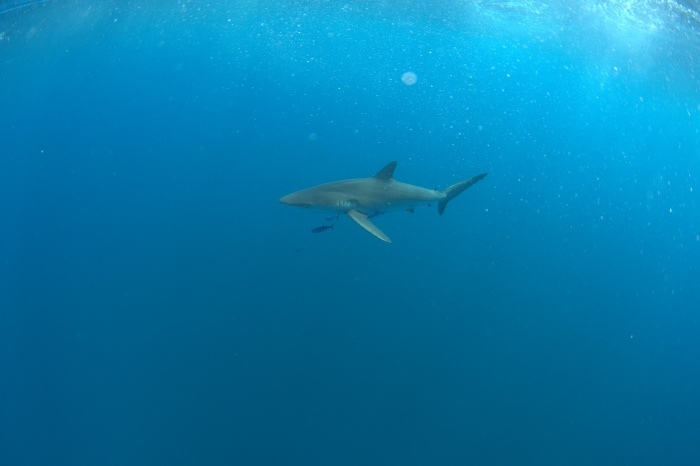Sedoso: (277, 160, 489, 244)
